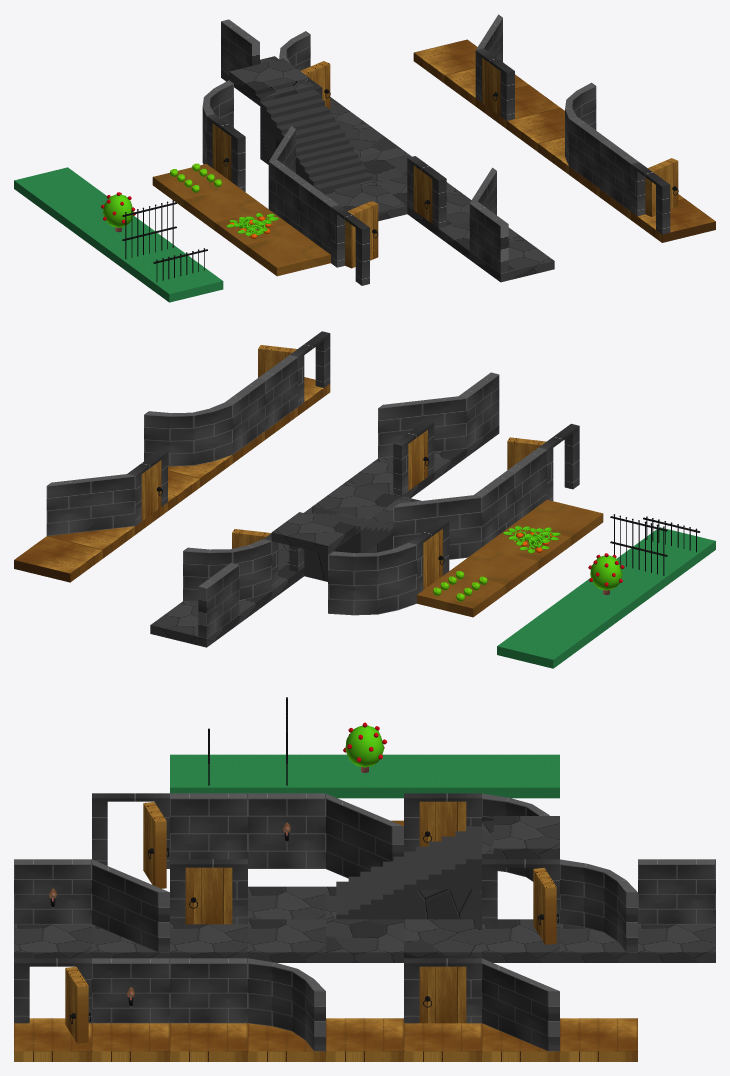
The model's file is CastleGridMapBlocks.dae.
3 views of the same model, one above another, from view 1: azimuth 30°, elevation 25°; view 2: azimuth 150°, elevation 25°; view 3: azimuth 270°, elevation 25° (orthographic). The views are drawn at different scales.
Visible parts, largest first — view 1: WoodFloorAndWallDoorOpen, CastleFloorAndWallTorch, CastleStair02, WoodFloorAndWallDoorClosed, WallDoorOpen, CastleFloorAndWallDoorClosed, CastleStairs01, GrassRailSmall, GrassRailTall, GroundGrassGardenBushBlock, GroundDirtBlock, CastleStair03 (+24 smaller); view 2: WoodFloorAndWallCorner01, WallPlainCornerRounded, WoodFloorAnWallCornerRound, CastleFloorAndWallCorner01, CastleFloorAndWallPlain, CastleFloorAndWallCornerRound, WallPlainCornerAcross, CastleFloorAndWallDoorClosed, GroundGrassGardenBushBlock, GroundGardenBlockCabbages, WoodFloorAndWallDoorOpen, WoodenBlocks (+20 smaller); view 3: CastleFloorAndWallPlain, WoodFloorAndWallDoorClosed, WoodFloorAndWallPlain, WoodFloorAndWallTorch, CastleFloorAndWallDoorClosed, CastleFloorAndWallTorch, WoodFloorAnWallCornerRound, CastleFloorAndWallCornerRound, WoodFloorAndWallCorner01, CastleFloorAndWallCorner01, CastleStair02, WoodFloorAndWallDoorOpen (+20 smaller).
Boxes of the visible parts, x1=… form: WoodFloorAndWallDoorOpen: x1=631, y1=158, x2=715, y2=242; CastleFloorAndWallTorch: x1=469, y1=201, x2=554, y2=282; CastleStair02: x1=260, y1=89, x2=345, y2=164; WoodFloorAndWallDoorClosed: x1=475, y1=48, x2=560, y2=128; WallDoorOpen: x1=331, y1=201, x2=378, y2=285; CastleFloorAndWallDoorClosed: x1=407, y1=156, x2=471, y2=236; CastleStairs01: x1=296, y1=136, x2=375, y2=195; GrassRailSmall: x1=138, y1=248, x2=223, y2=302; GrassRailTall: x1=107, y1=200, x2=191, y2=279; GroundGrassGardenBushBlock: x1=76, y1=192, x2=160, y2=256; GroundDirtBlock: x1=246, y1=232, x2=330, y2=276; CastleStair03: x1=229, y1=58, x2=314, y2=102; WoodFloorAndWallCorner01: x1=46, y1=474, x2=135, y2=558; WallPlainCornerRounded: x1=328, y1=542, x2=416, y2=615; WoodFloorAnWallCornerRound: x1=144, y1=402, x2=232, y2=486; CastleFloorAndWallCorner01: x1=378, y1=396, x2=466, y2=480; CastleFloorAndWallPlain: x1=150, y1=563, x2=239, y2=647; CastleFloorAndWallCornerRound: x1=183, y1=539, x2=271, y2=623; WallPlainCornerAcross: x1=393, y1=495, x2=481, y2=559; CastleFloorAndWallDoorClosed: x1=346, y1=420, x2=434, y2=497; GroundGrassGardenBushBlock: x1=562, y1=553, x2=650, y2=620; GroundGardenBlockCabbages: x1=417, y1=571, x2=505, y2=617; WoodFloorAndWallDoorOpen: x1=258, y1=331, x2=330, y2=415; WoodenBlocks: x1=14, y1=536, x2=102, y2=582; CastleFloorAndWallPlain: x1=638, y1=859, x2=715, y2=962; WoodFloorAndWallDoorClosed: x1=404, y1=958, x2=481, y2=1061; WoodFloorAndWallPlain: x1=170, y1=958, x2=247, y2=1061; WoodFloorAndWallTorch: x1=92, y1=958, x2=169, y2=1061; CastleFloorAndWallDoorClosed: x1=170, y1=859, x2=247, y2=958; CastleFloorAndWallTorch: x1=14, y1=859, x2=91, y2=958; WoodFloorAnWallCornerRound: x1=248, y1=958, x2=325, y2=1061; CastleFloorAndWallCornerRound: x1=560, y1=859, x2=637, y2=962; WoodFloorAndWallCorner01: x1=482, y1=958, x2=559, y2=1061; CastleFloorAndWallCorner01: x1=92, y1=859, x2=169, y2=958; CastleStair02: x1=404, y1=826, x2=481, y2=919; WoodFloorAndWallDoorOpen: x1=14, y1=958, x2=91, y2=1061.
Size of the model in its own units: 18 by 18 by 2.3.
Materials: 15 (7 with a texture image).
